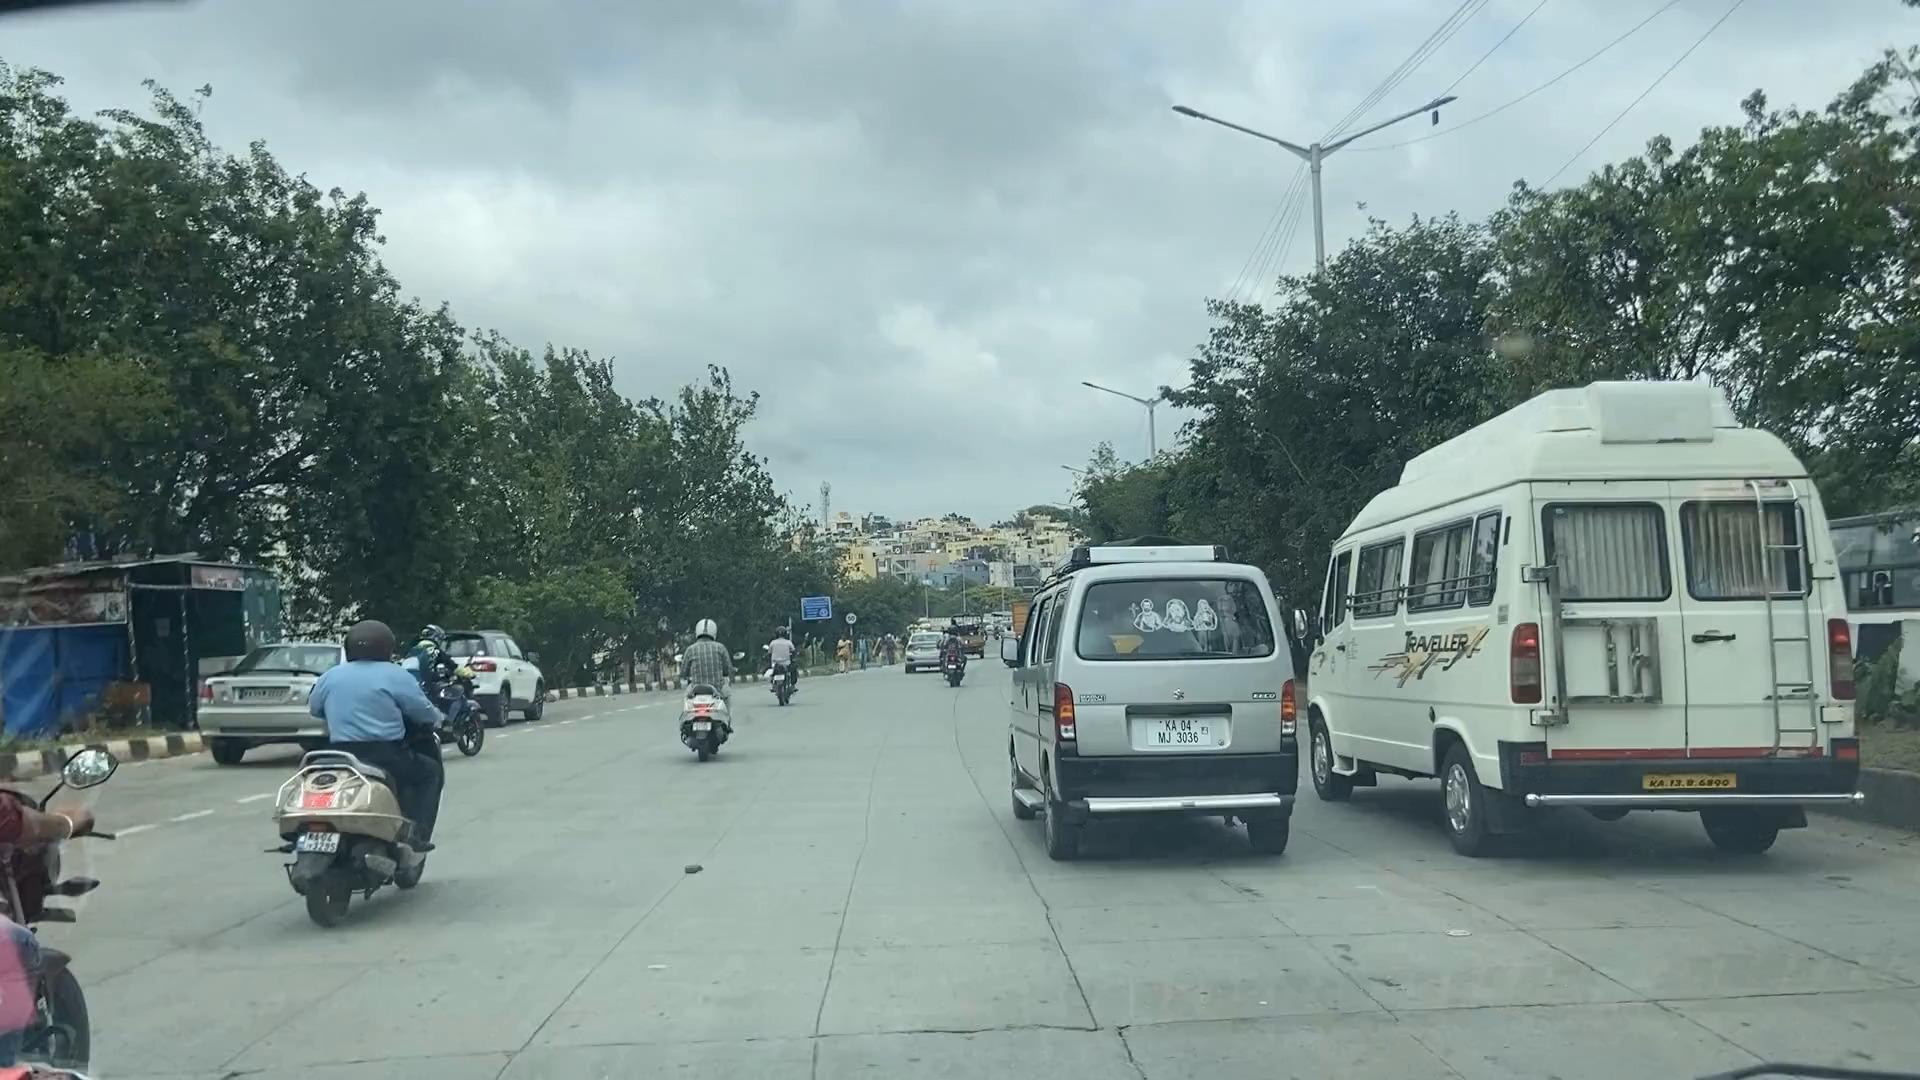HMV: (1308, 477, 1847, 852)
LMV: (981, 571, 1287, 848), (268, 628, 458, 922), (683, 608, 749, 766)
